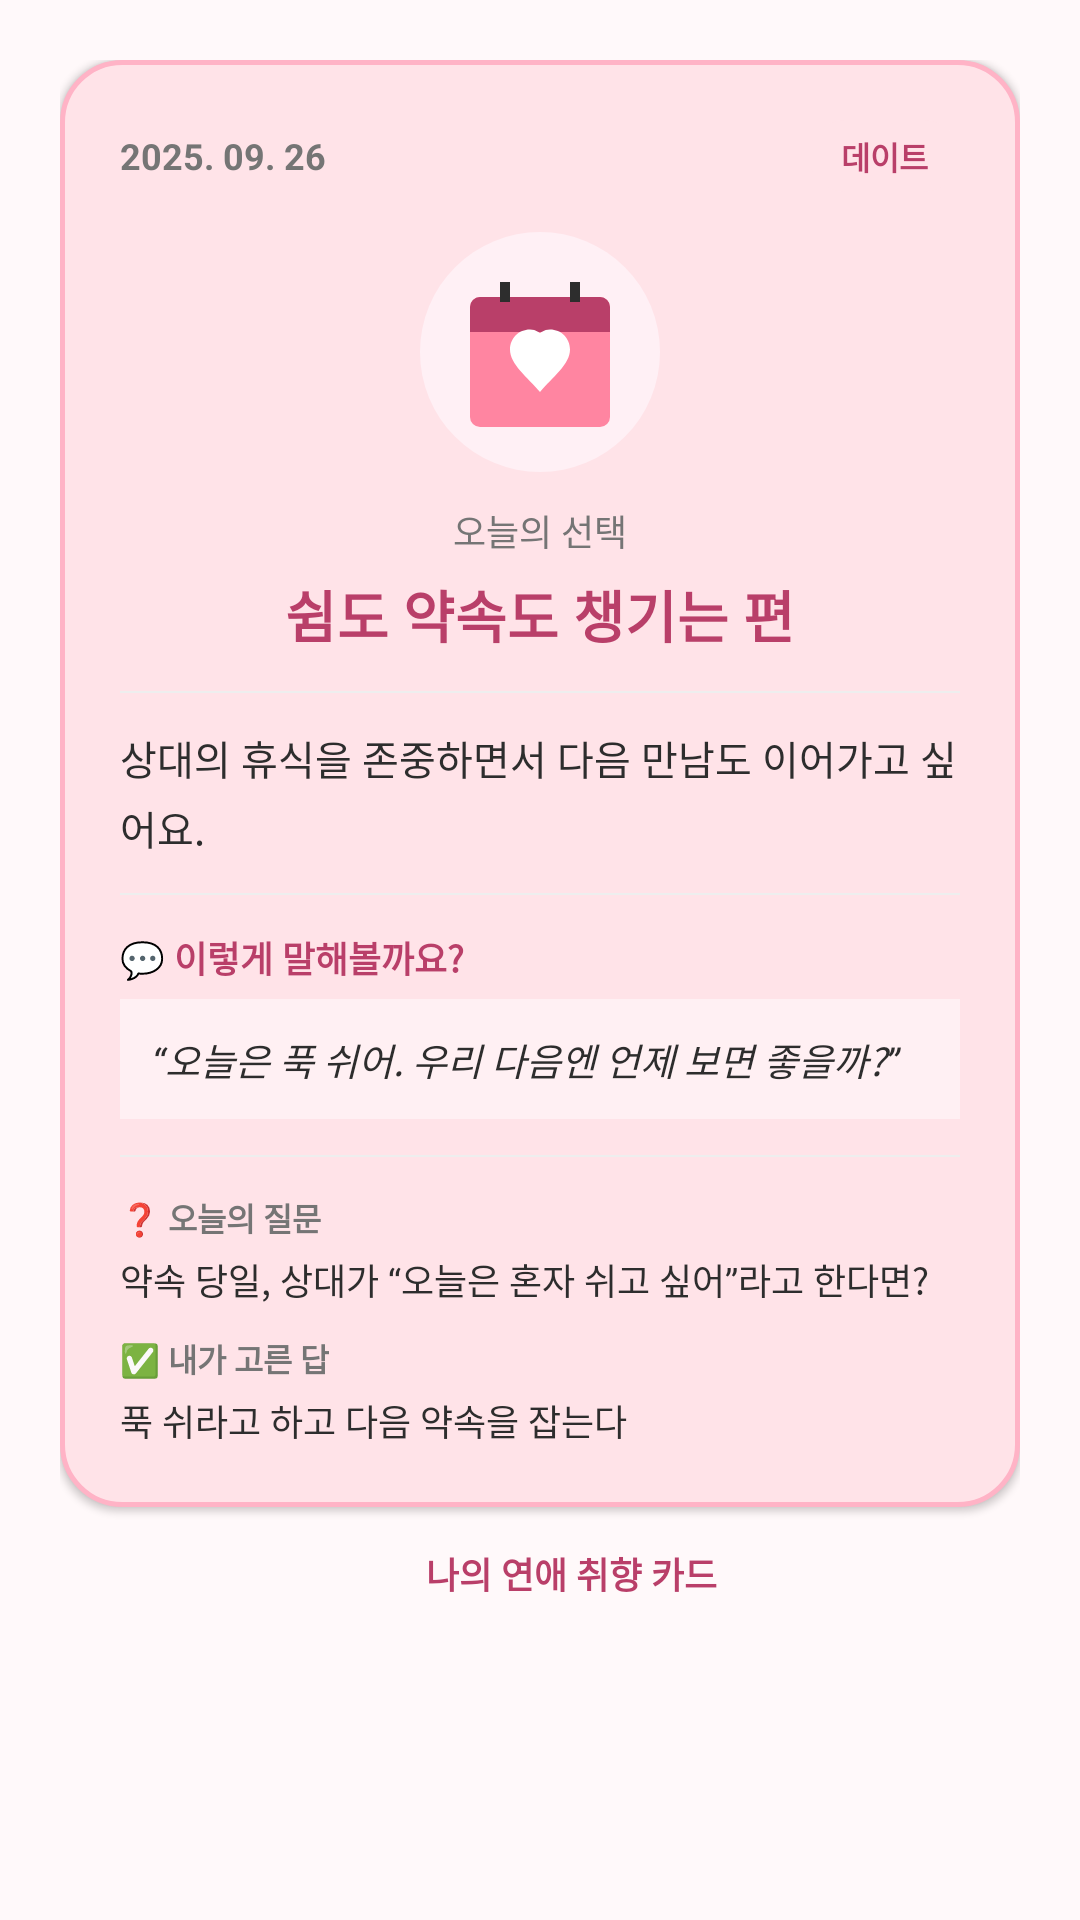

Icons on this 1080x1920 Android screen, each with the point to tap as (x,y):
illustration date: (540,354)
